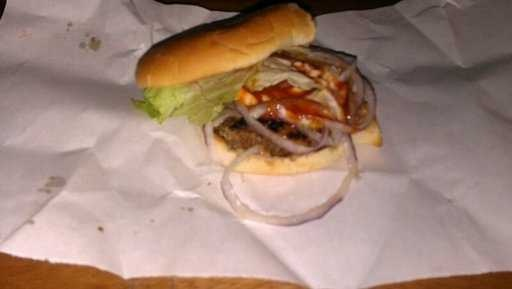hamburger: (116, 6, 389, 193)
